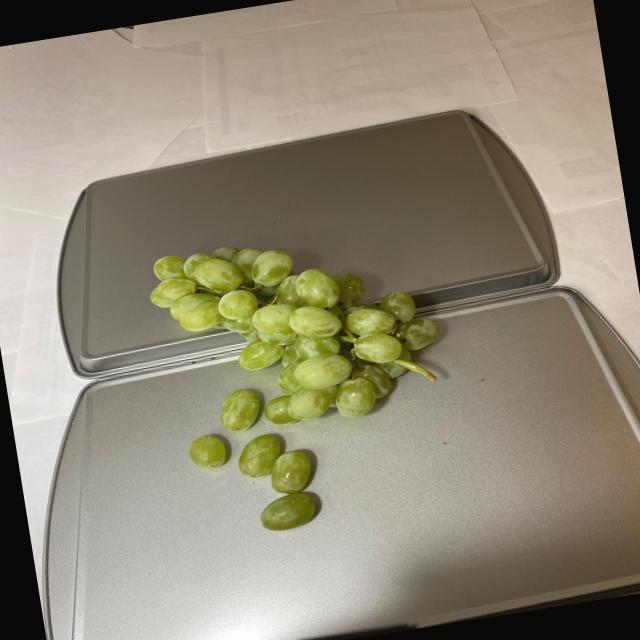grapes: (140, 212, 466, 544)
